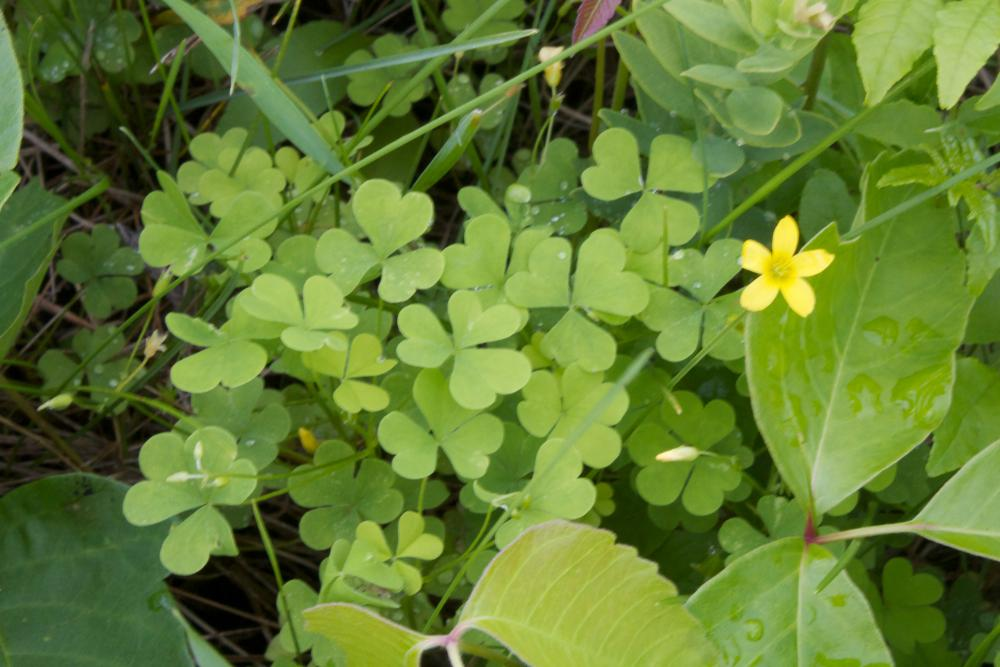oxalis: (150, 156, 643, 549)
